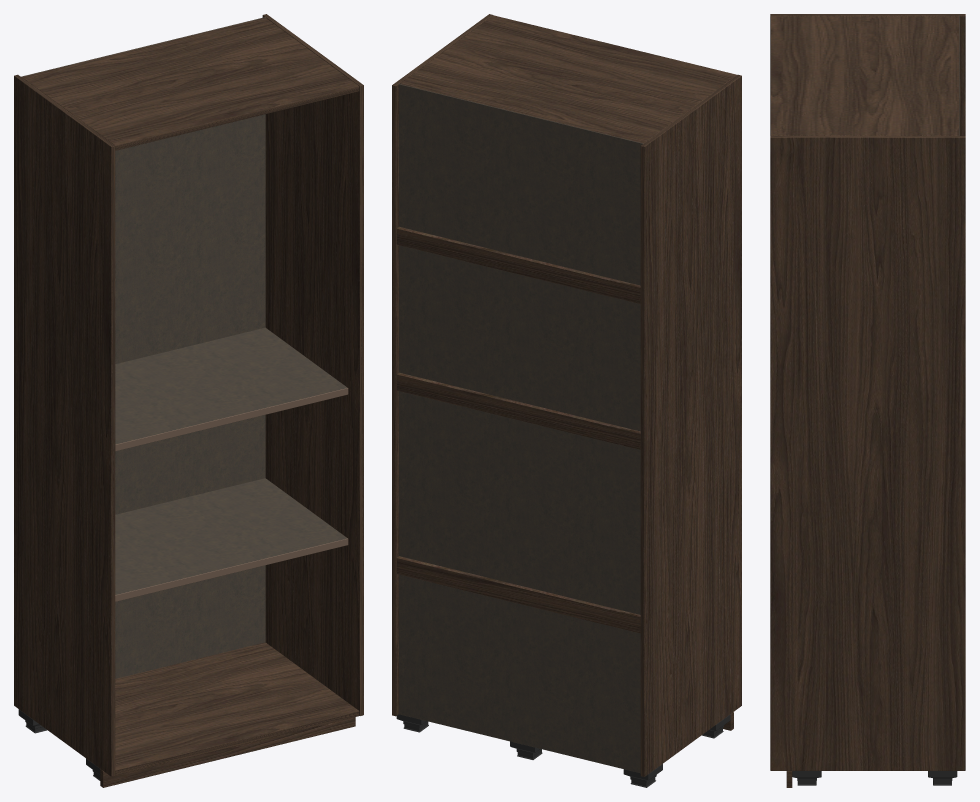
The picture shows the model from 3 angles, left to right: view 1: azimuth 30°, elevation 25°; view 2: azimuth 150°, elevation 25°; view 3: azimuth 270°, elevation 25°; orthographic projection.
Visible parts, largest first — view 1: HK1001052; view 2: HK1001052; view 3: HK1001052.
Boxes of the visible parts, x1,y1,x2,y2 form: HK1001052: [14, 14, 363, 787]; HK1001052: [392, 14, 741, 787]; HK1001052: [770, 14, 965, 787].
Size of the model in its own units: 0.9 by 2.2 by 0.6.
6 materials, 5 textured.
